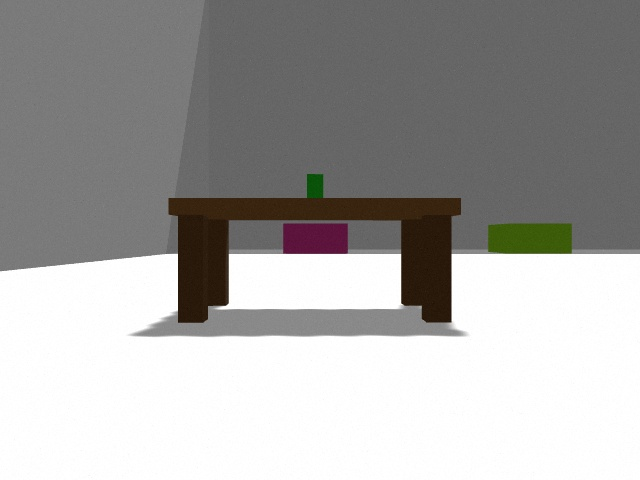green_cube: (307, 174, 323, 198)
green_drop_zone: (488, 223, 572, 254)
red_drop_zone: (283, 223, 348, 254)
